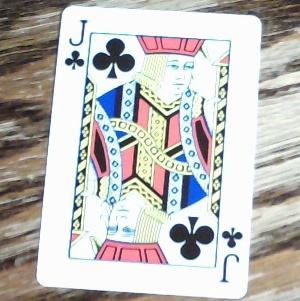card: (36, 3, 263, 298)
